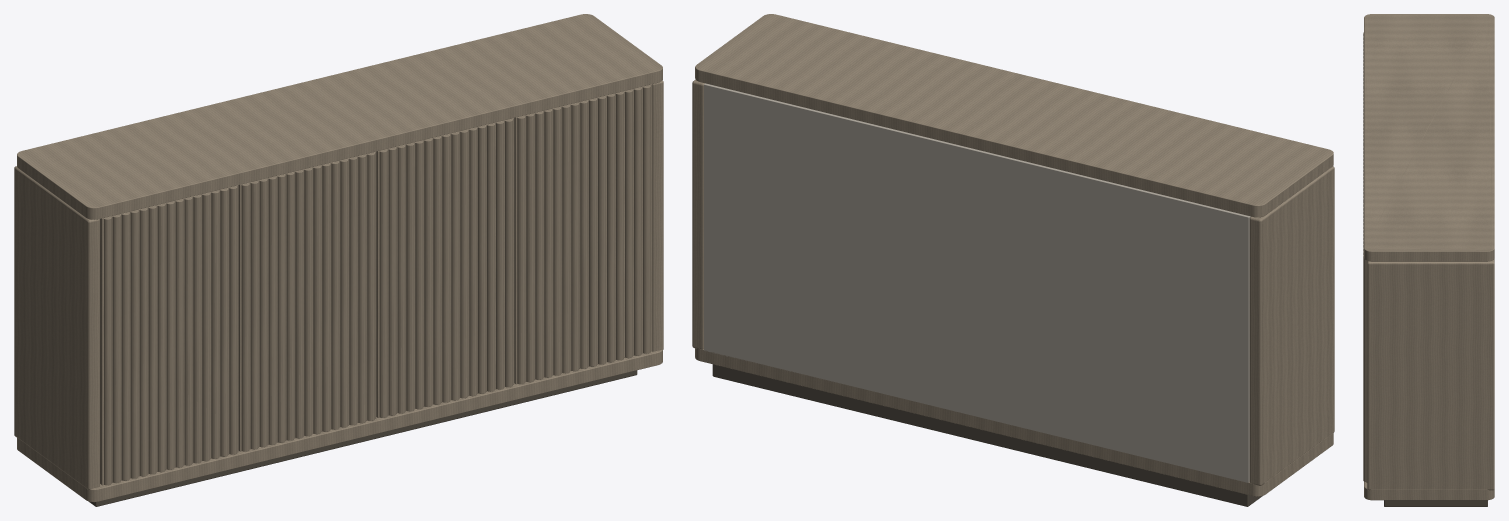
Rendered from sicotas-fluted-sideboard.glb.
3 views of the same model, side by side, from view 1: azimuth 30°, elevation 25°; view 2: azimuth 150°, elevation 25°; view 3: azimuth 270°, elevation 25° (orthographic). The views are drawn at different scales.
Visible parts, largest first — view 1: Rounded top slab, Full height outer side, Rounded lower slab, Door backing 2, Door backing 1, Door backing 3, Door backing 4, Full height outer side.001, Recessed full-width plinth, Rounded vertical door flute.011, Rounded vertical door flute.004, Rounded vertical door flute.015 (+57 smaller); view 2: Back panel, Rounded top slab, Full height outer side, Rounded lower slab, Recessed full-width plinth, Full height outer side.001; view 3: Rounded top slab, Full height outer side.001, Rounded lower slab, Rounded vertical door flute.059, Recessed full-width plinth, Door backing 4.
Part boxes in pixels (x1=…): Rounded top slab: x1=17, y1=14, x2=662, y2=219; Full height outer side: x1=14, y1=166, x2=99, y2=489; Rounded lower slab: x1=17, y1=349, x2=662, y2=502; Door backing 2: x1=238, y1=151, x2=376, y2=451; Door backing 1: x1=100, y1=185, x2=238, y2=485; Door backing 3: x1=376, y1=118, x2=514, y2=417; Door backing 4: x1=514, y1=84, x2=651, y2=384; Full height outer side.001: x1=652, y1=80, x2=663, y2=351; Recessed full-width plinth: x1=88, y1=370, x2=637, y2=506; Rounded vertical door flute.011: x1=202, y1=192, x2=210, y2=461; Rounded vertical door flute.004: x1=139, y1=208, x2=147, y2=476; Rounded vertical door flute.015: x1=241, y1=183, x2=249, y2=451; Back panel: x1=704, y1=83, x2=1250, y2=482; Rounded top slab: x1=695, y1=14, x2=1333, y2=217; Full height outer side: x1=1249, y1=166, x2=1334, y2=485; Rounded lower slab: x1=695, y1=348, x2=1333, y2=496; Recessed full-width plinth: x1=712, y1=364, x2=1262, y2=506; Full height outer side.001: x1=692, y1=80, x2=704, y2=349; Rounded top slab: x1=1364, y1=14, x2=1494, y2=261; Full height outer side.001: x1=1367, y1=259, x2=1494, y2=490; Rounded lower slab: x1=1364, y1=481, x2=1494, y2=500; Rounded vertical door flute.059: x1=1363, y1=255, x2=1366, y2=481; Recessed full-width plinth: x1=1384, y1=500, x2=1487, y2=506; Door backing 4: x1=1366, y1=260, x2=1367, y2=482.
Bounding box in the file's own units: 1.68 × 0.8687 × 0.3937.
3 materials, 1 textured.
